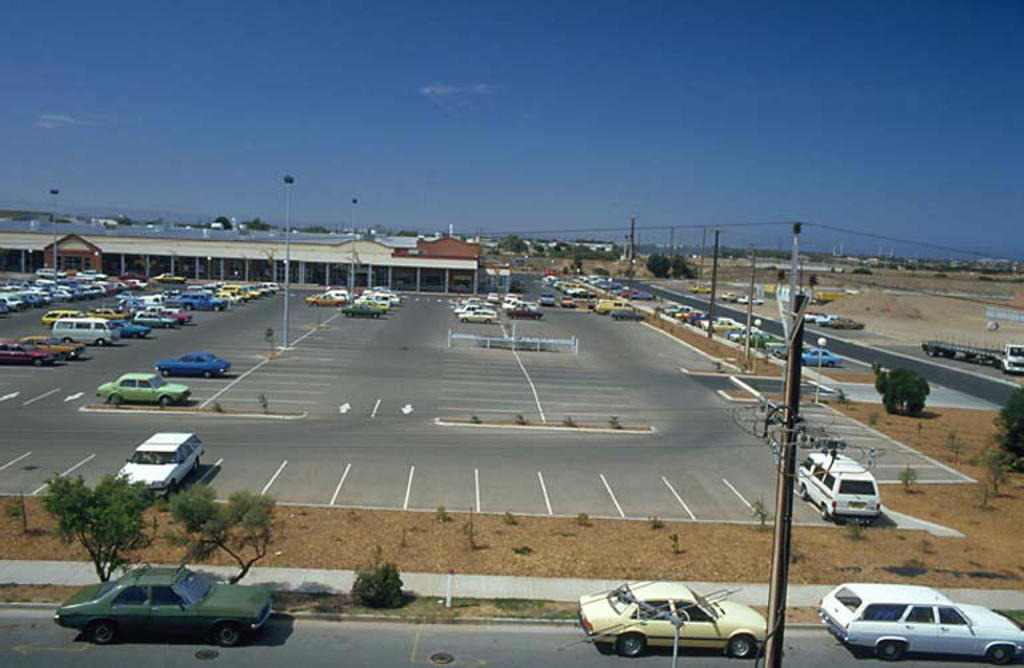Car: (0, 282, 281, 369), (56, 566, 277, 642), (818, 582, 1022, 664), (577, 582, 765, 658), (664, 306, 842, 367), (0, 270, 152, 310), (115, 432, 205, 497), (94, 375, 193, 407), (310, 288, 402, 314), (161, 353, 229, 375)
